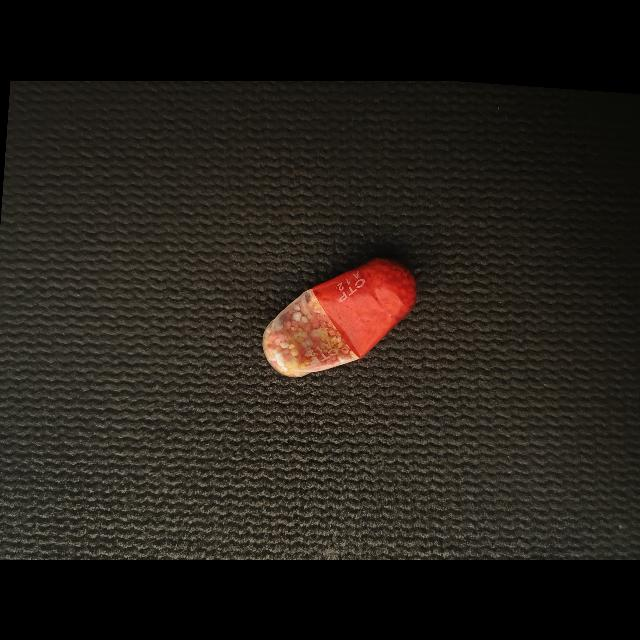Defective Capsule: (262, 258, 417, 377)
